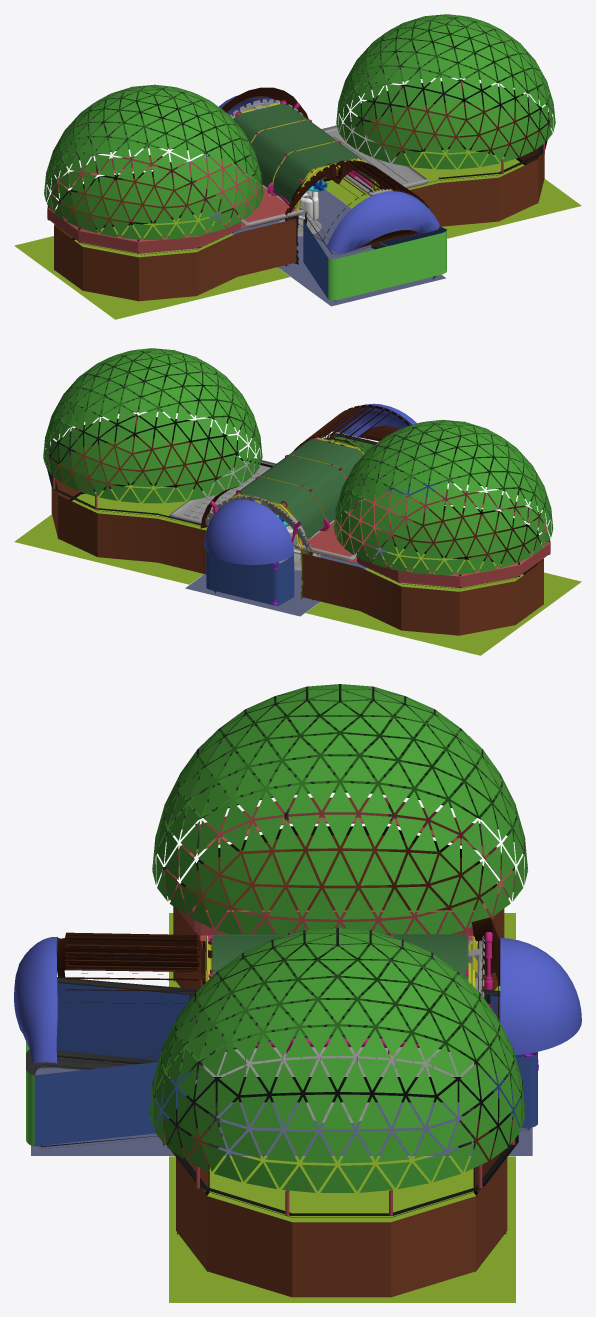
File: IOB VR Art Museum.FBX
3 views of the same model, one above another, from view 1: azimuth 30°, elevation 25°; view 2: azimuth 150°, elevation 25°; view 3: azimuth 270°, elevation 25° (orthographic). The views are drawn at different scales.
Parts seen in each view (by area): view 1: GeoSphere002, GeoSphere003, Object126, Object131, Capsule002, Sphere005, Object129, Object127, Gengon004, Box024, Object130, Capsule003 (+8 smaller); view 2: GeoSphere002, GeoSphere003, Object126, Object131, Capsule002, Object127, Capsule003, Object128, Sphere005, Gengon004, Box024, Sphere006 (+12 smaller); view 3: GeoSphere002, GeoSphere003, Object131, Object130, Sphere005, Capsule003, Object126, Object127, Gengon004, Capsule002, IOB Walls, Box024 (+11 smaller).
Boxes of the visible parts, x1,y1,x2,y2 form: GeoSphere002: (336,14,555,169); GeoSphere003: (44,84,263,239); Object126: (54,174,296,301); Object131: (315,102,544,226); Capsule002: (232,102,379,211); Sphere005: (285,160,439,253); Object129: (328,230,446,300); Object127: (47,155,299,253); Gengon004: (321,79,550,182); Box024: (322,123,428,195); Object130: (303,220,446,298); Capsule003: (219,87,308,119); GeoSphere002: (43,348,262,503); GeoSphere003: (334,420,553,574); Object126: (302,509,543,635); Object131: (51,437,235,574); Capsule002: (231,437,364,548); Object127: (298,489,550,587); Capsule003: (200,486,294,564); Object128: (206,551,294,605); Sphere005: (292,403,416,489); Gengon004: (45,415,272,526); Box024: (169,457,276,525); Sphere006: (205,495,312,549); GeoSphere002: (149,927,525,1192); GeoSphere003: (152,684,527,934); Object131: (176,1113,507,1297); Object130: (34,983,188,1146); Sphere005: (14,932,213,1063); Capsule003: (471,917,581,1055); Object126: (173,835,504,990); Object127: (161,797,515,985); Gengon004: (165,1061,518,1271); Capsule002: (205,934,477,1058); IOB Walls: (26,977,529,1148); Box024: (202,1047,474,1076).
Size of the model in its own units: 3916 by 1299 by 2340.
